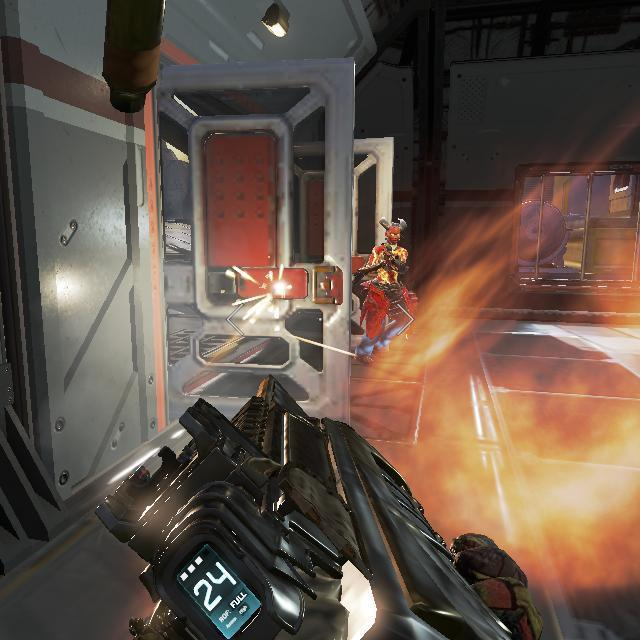avatar: (349, 215, 419, 366)
